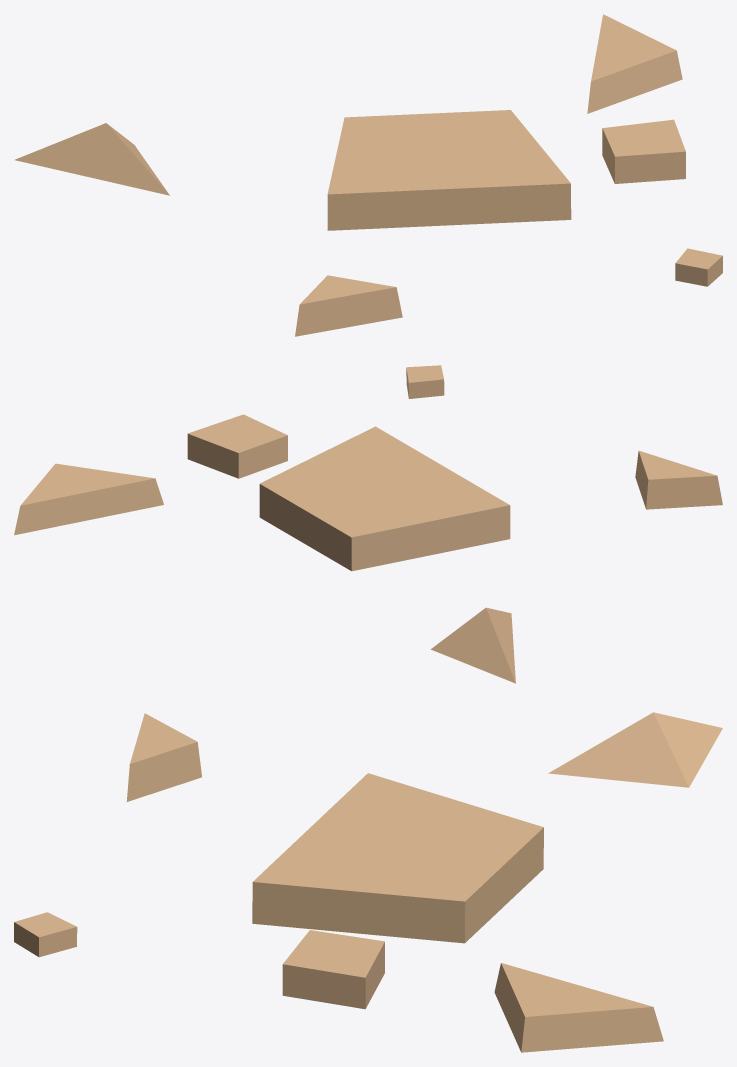
The model's file is Rocks_Flat_s_01.fbx.
3 views of the same model, one above another, from view 1: azimuth 30°, elevation 25°; view 2: azimuth 150°, elevation 25°; view 3: azimuth 270°, elevation 25° (orthographic). The views are drawn at different scales.
Parts seen in each view (by area): view 1: Rocks_Flat_s_01; view 2: Rocks_Flat_s_01; view 3: Rocks_Flat_s_01.
Part boxes in pixels (left/top/right/bottom): Rocks_Flat_s_01: left=15, top=14, right=722, bottom=336; Rocks_Flat_s_01: left=14, top=365, right=722, bottom=683; Rocks_Flat_s_01: left=14, top=712, right=722, bottom=1052.
Bounding box in the file's own units: 64.48 × 4.71 × 58.96.
